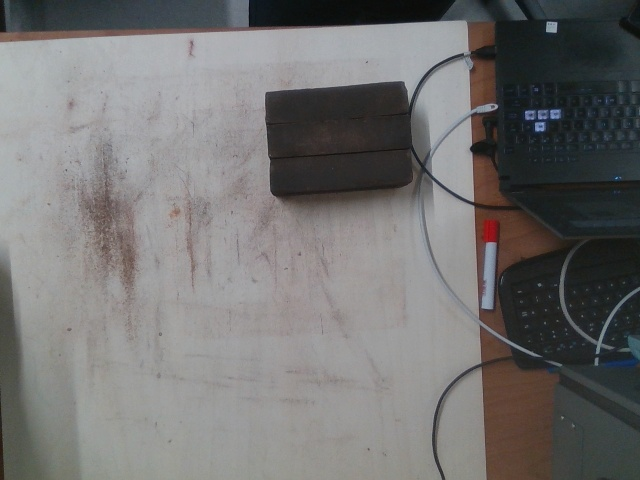brick-side: (267, 82, 404, 123), (269, 115, 406, 156), (271, 150, 408, 191)
